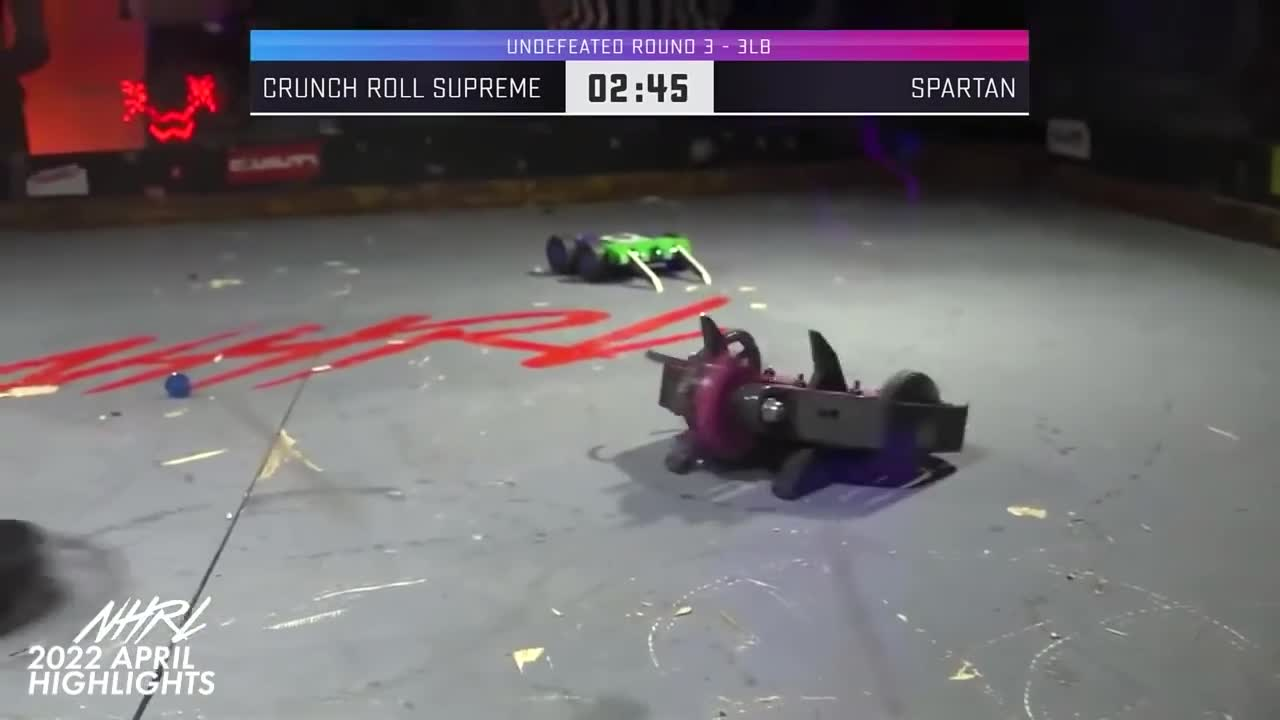combatbot: (645, 313, 969, 501), (544, 229, 714, 296)
debris: (161, 369, 193, 399)
